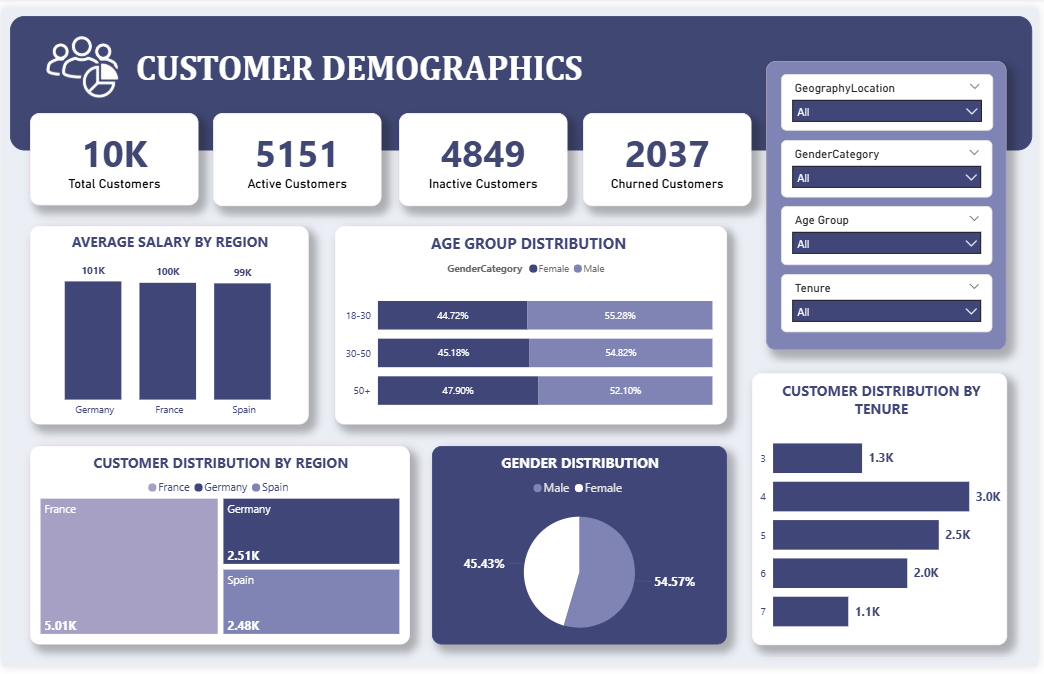

Layout of this report page (visuals, bound fields, positions):
{"tool":"powerbi","page":{"name":"CUSTOMER DEMOGRAPHICS","canvas":[1280,812],"ordinal":2},"visuals":[{"type":"textbox","box":[9.8,9.8,1262.2,165.9],"z":0},{"type":"textbox","box":[160,42.9,782.9,64.3],"z":1000},{"type":"clusteredColumnChart","title":"AVERAGE SALARY BY REGION","fields":{"Category":["Bank_Churn.GeographyLocation"],"Y":["Avg(Bank_Churn.EstimatedSalary)"]},"box":[34.7,269.3,344,245.3],"z":2000},{"type":"hundredPercentStackedBarChart","title":"AGE  GROUP DISTRIBUTION","fields":{"Category":["Bank_Churn.Age Group"],"Y":["CountNonNull(Bank_Churn.CustomerId)"],"Series":["Bank_Churn.GenderCategory"]},"box":[410.7,269.3,484,245.3],"z":3000},{"type":"pieChart","title":"GENDER DISTRIBUTION","fields":{"Category":["Bank_Churn.GenderCategory"],"Y":["CountNonNull(Bank_Churn.CustomerId)"]},"box":[530.7,541.3,364,245.3],"z":4000},{"type":"card","fields":{"Values":["Measures Table.Active Customers"]},"box":[260,129.3,208,114.7],"z":5000},{"type":"card","fields":{"Values":["Measures Table.Inactive Customers"]},"box":[490.7,129.3,208,114.7],"z":6000},{"type":"card","fields":{"Values":["Measures Table.Churned Customers"]},"box":[717.3,129.3,208,114.7],"z":7000},{"type":"clusteredBarChart","title":"CUSTOMER DISTRIBUTION BY TENURE","fields":{"Y":["CountNonNull(Bank_Churn.CustomerId)"],"Category":["Bank_Churn.Tenure"]},"box":[925.3,450.7,314.7,336],"z":8000},{"type":"treemap","title":"CUSTOMER DISTRIBUTION BY REGION","fields":{"Values":["Divide(CountNonNull(Bank_Churn.CustomerId), ScopedEval(CountNonNull(Bank_Churn.CustomerId), []))"],"Group":["Bank_Churn.GeographyLocation"]},"box":[34.7,541.3,469.3,245.3],"z":9000},{"type":"card","fields":{"Values":["Measures Table.Total Customers"]},"box":[34.5,129.8,208.4,114.3],"z":10000},{"type":"textbox","box":[942.7,65.3,297.3,357.3],"z":11000},{"type":"group","id":"g1","title":"Group 1","box":[961.3,81.3,262,318.7],"z":12000},{"type":"image","box":[0,0,197.1,151.4],"z":13000},{"type":"slicer","fields":{"Values":["Bank_Churn.GeographyLocation"]},"box":[961.3,81.3,262,69.8],"z":14000,"group":"g1"},{"type":"slicer","fields":{"Values":["Bank_Churn.Age Group"]},"box":[961.3,244,261.3,73.3],"z":15000,"group":"g1"},{"type":"slicer","fields":{"Values":["Bank_Churn.GenderCategory"]},"box":[961.3,162.6,261.3,70.7],"z":16000,"group":"g1"},{"type":"slicer","fields":{"Values":["Bank_Churn.Tenure"]},"box":[961.3,328,261.3,72],"z":17000,"group":"g1"}]}

Visuals, with their boxes in screenshot pixels (x1, y1, x2, y2), scaled from the page's 1280x812 canvas onto the 1044x674 screenshot:
textbox: <box>8,8,1037,146</box>
textbox: <box>130,36,769,89</box>
"AVERAGE SALARY BY REGION" clusteredColumnChart: <box>28,224,309,427</box>
"AGE  GROUP DISTRIBUTION" hundredPercentStackedBarChart: <box>335,224,730,427</box>
"GENDER DISTRIBUTION" pieChart: <box>433,449,730,653</box>
card - Measures Table.Active Customers: <box>212,107,382,203</box>
card - Measures Table.Inactive Customers: <box>400,107,570,203</box>
card - Measures Table.Churned Customers: <box>585,107,755,203</box>
"CUSTOMER DISTRIBUTION BY TENURE" clusteredBarChart: <box>755,374,1011,653</box>
"CUSTOMER DISTRIBUTION BY REGION" treemap: <box>28,449,411,653</box>
card - Measures Table.Total Customers: <box>28,108,198,203</box>
textbox: <box>769,54,1011,351</box>
"Group 1" group: <box>784,67,998,332</box>
image: <box>0,0,161,126</box>
slicer - Bank_Churn.GeographyLocation: <box>784,67,998,125</box>
slicer - Bank_Churn.Age Group: <box>784,203,997,263</box>
slicer - Bank_Churn.GenderCategory: <box>784,135,997,194</box>
slicer - Bank_Churn.Tenure: <box>784,272,997,332</box>
